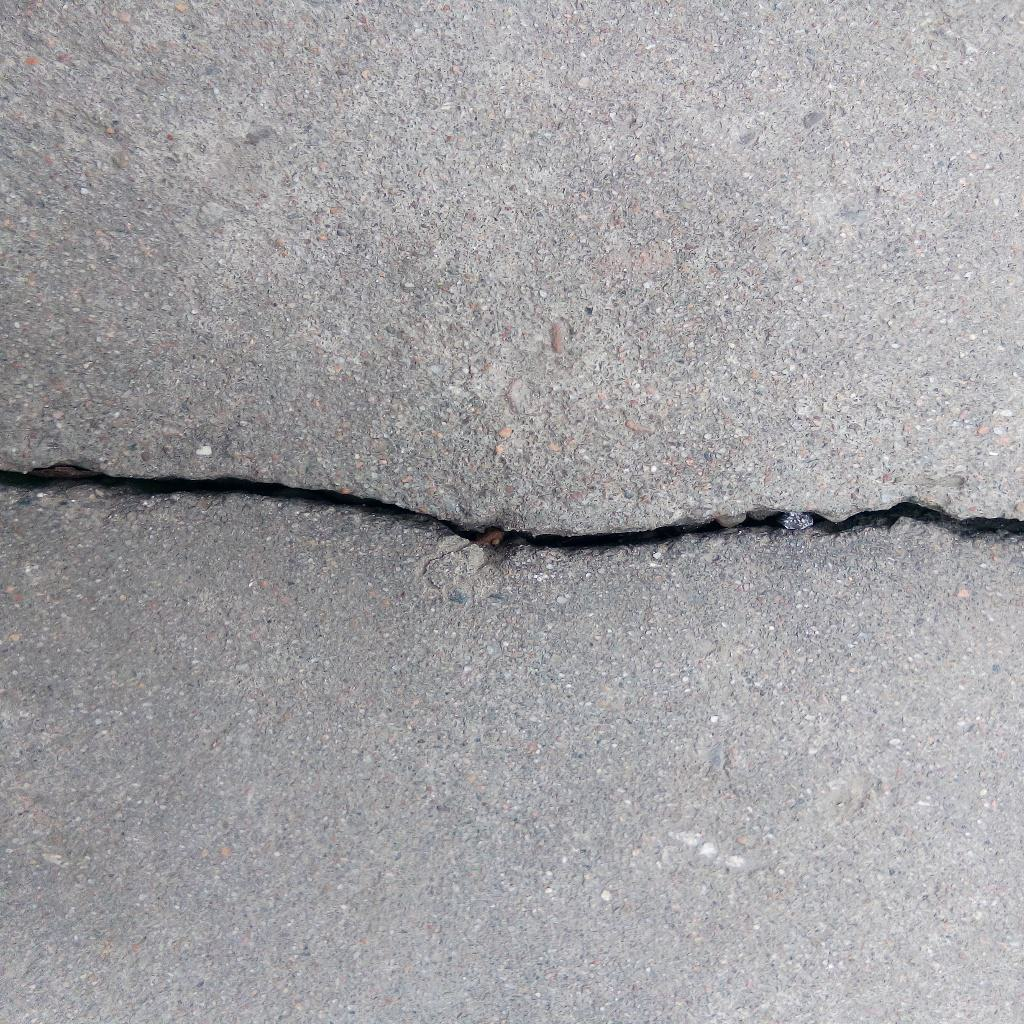Crack: (1, 460, 1024, 563)
